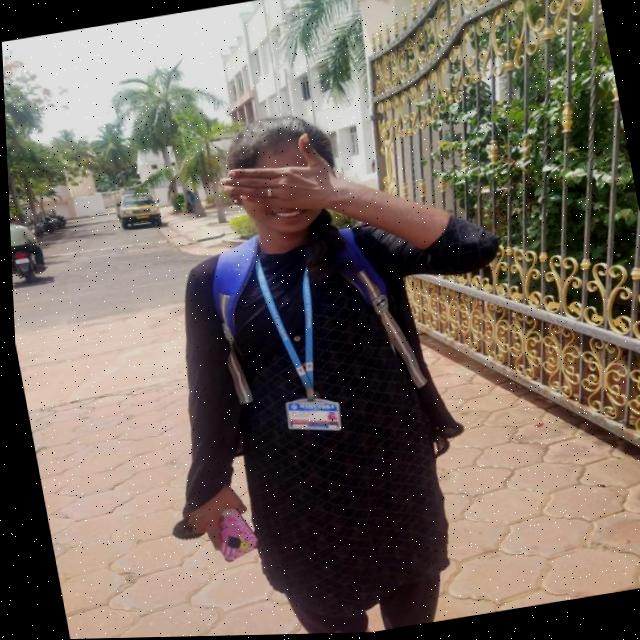id_card: (230, 236, 352, 447)
